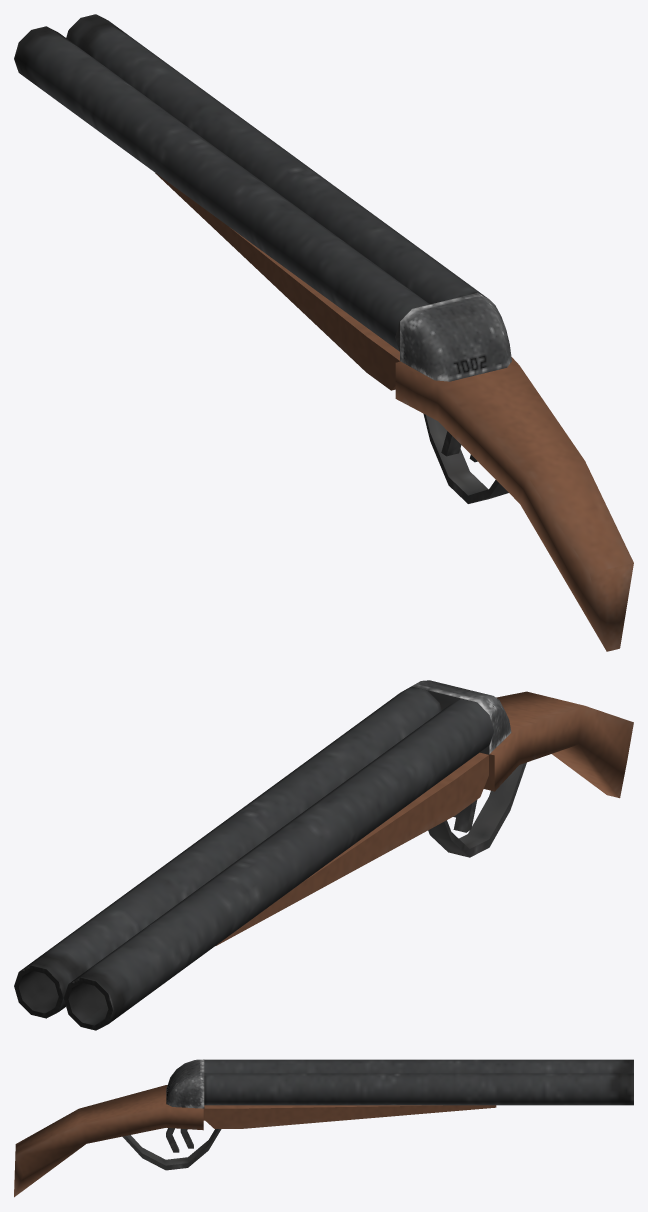
File: shotgun20.glb
3 views of the same model, one above another, from view 1: azimuth 30°, elevation 25°; view 2: azimuth 150°, elevation 25°; view 3: azimuth 270°, elevation 25° (orthographic). The views are drawn at different scales.
Parts seen in each view (by area): view 1: barell, Box002; view 2: barell, Box002; view 3: barell, Box002.
Part boxes in pixels (x1=…): barell: x1=14, y1=14, x2=486, y2=390; Box002: x1=395, y1=293, x2=633, y2=651; barell: x1=14, y1=686, x2=493, y2=1030; Box002: x1=400, y1=680, x2=633, y2=857; barell: x1=204, y1=1059, x2=633, y2=1128; Box002: x1=14, y1=1059, x2=221, y2=1197.
Size of the model in its own units: 0.2428 by 0.5284 by 2.33.
Materials: 1 (1 with a texture image).
